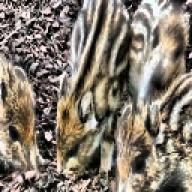boar: (54, 0, 132, 177), (0, 38, 42, 174)
